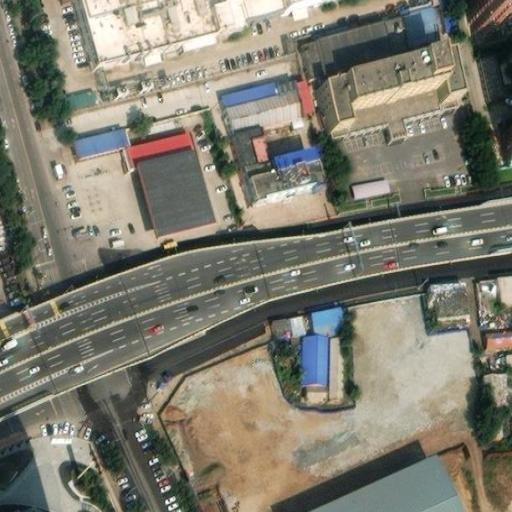building: (71, 119, 216, 229), (72, 0, 282, 59), (303, 1, 447, 76), (307, 454, 467, 511), (334, 51, 439, 106), (226, 80, 305, 128), (342, 83, 438, 122), (244, 151, 319, 191), (233, 120, 274, 169), (223, 75, 298, 98), (429, 274, 468, 315), (426, 324, 471, 358), (432, 47, 458, 100), (319, 79, 346, 126), (302, 330, 329, 374), (346, 174, 389, 200), (271, 138, 317, 161), (329, 330, 345, 392), (478, 271, 499, 318), (273, 306, 309, 331), (481, 370, 508, 400), (313, 302, 345, 326), (67, 81, 96, 104), (483, 323, 512, 346), (298, 77, 317, 111), (495, 48, 512, 86), (497, 271, 512, 302), (305, 379, 329, 392)
